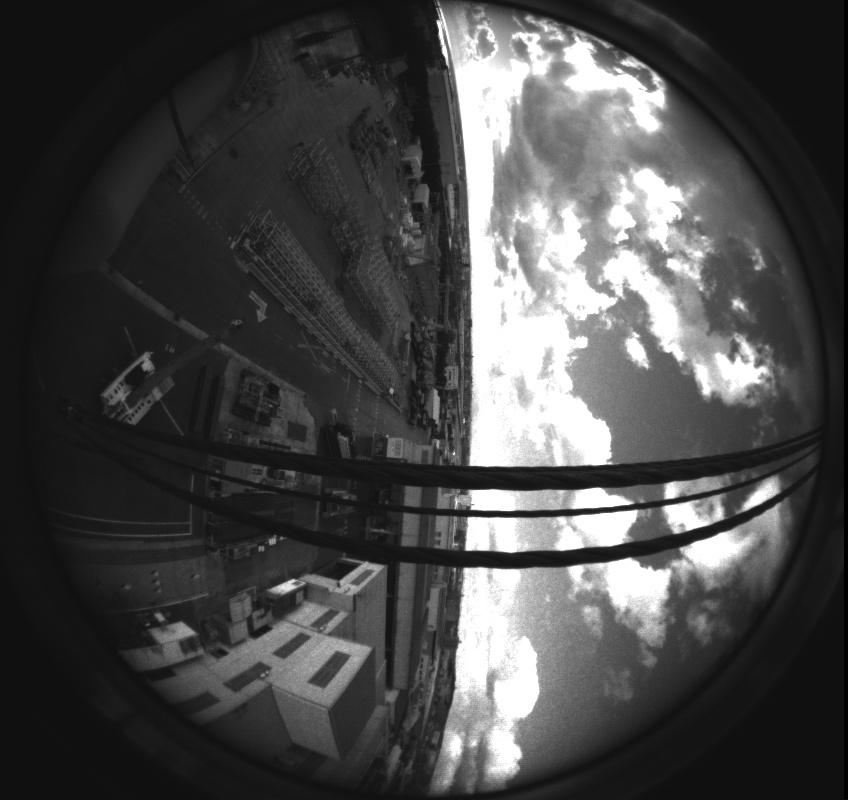rope: (6, 383, 843, 578)
